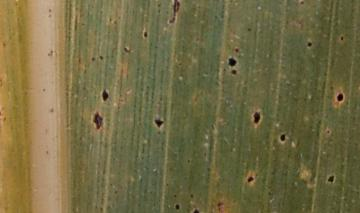tarspot: (169, 1, 179, 23), (92, 112, 103, 129), (252, 111, 261, 125), (101, 89, 111, 101), (335, 91, 345, 102), (154, 118, 164, 128), (228, 57, 238, 67), (279, 132, 287, 143), (327, 174, 335, 184), (122, 45, 130, 53), (90, 54, 97, 63), (247, 175, 254, 184), (142, 29, 148, 39), (173, 203, 180, 211), (231, 68, 238, 75), (233, 47, 241, 53), (339, 34, 345, 42), (307, 41, 313, 49), (98, 54, 104, 61), (246, 26, 252, 32), (186, 158, 192, 164), (192, 208, 199, 213), (326, 129, 331, 135), (299, 1, 305, 6), (172, 194, 178, 199), (190, 194, 195, 199)
